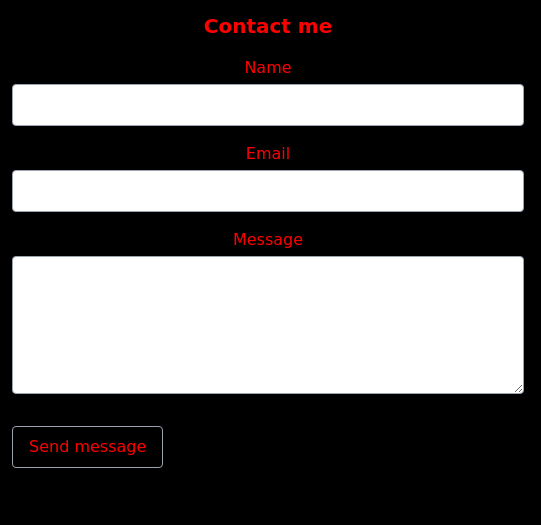
it: Contact me › validates required fields and explains when no endpoint is configured
Type "Test visitor" into the field labelled "Name".
click(268, 105); type("Test visitor")  # box x1=12 y1=84 x2=524 y2=126
Type "invalid" into the field labelled "Email".
click(268, 191); type("invalid")  # box x1=12 y1=170 x2=524 y2=212
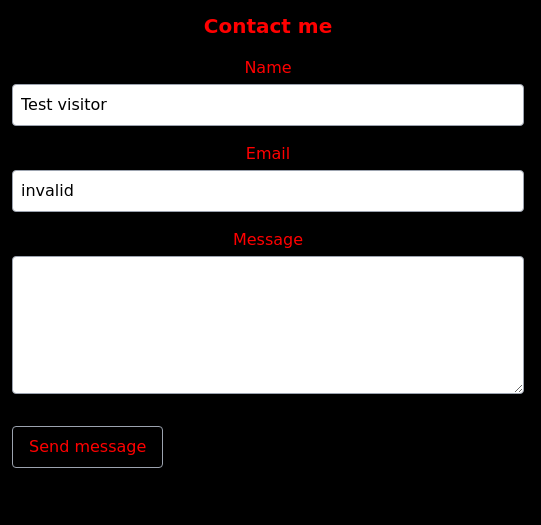
Replace the text in the field labelled "Email" with "visitor@example.com" at (268, 191), box x1=12 y1=170 x2=524 y2=212
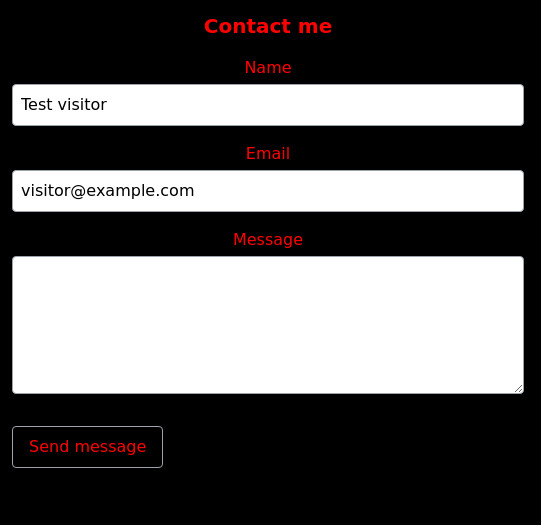
Type "Hello!" into the text box labelled "Message".
click(268, 325); type("Hello!")  # box x1=12 y1=256 x2=524 y2=394
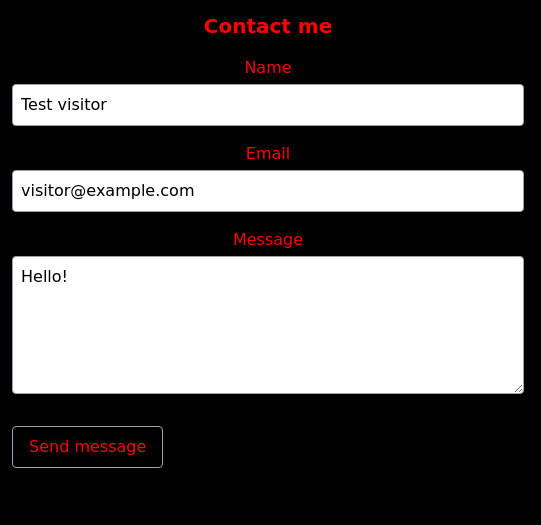
Replace the text in the field labelled "Email" with "visitor@localhost" at (268, 191), box x1=12 y1=170 x2=524 y2=212
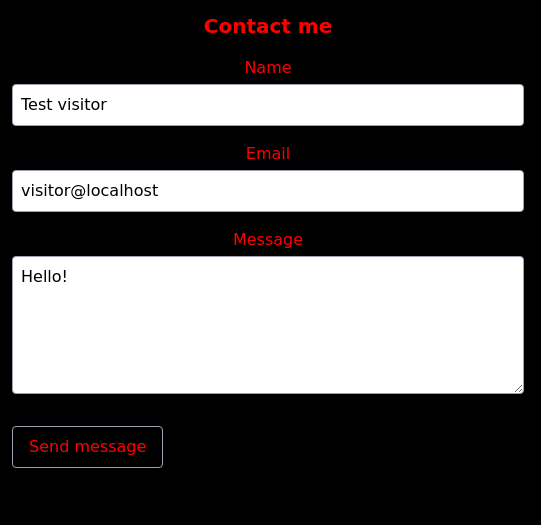
Replace the text in the field labelled "Email" with "visitor@example.com" at (268, 191), box x1=12 y1=170 x2=524 y2=212
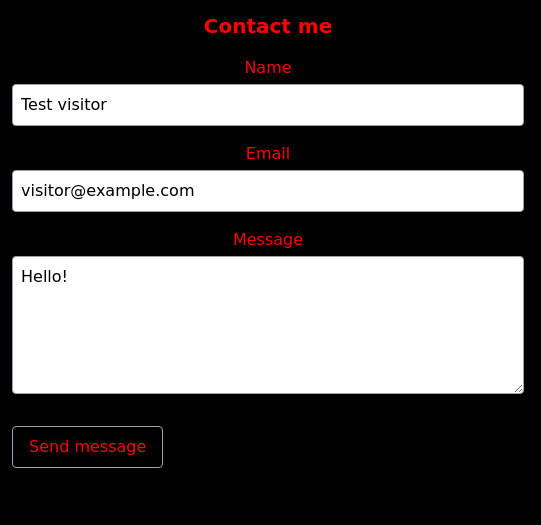
Check: the button "Send message" is enabled, box x1=12 y1=426 x2=163 y2=468
Submit the form "Contact me"
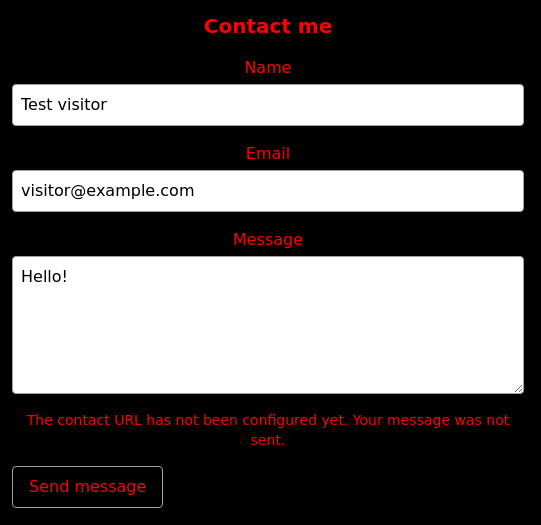
Check: the message shows "URL has not been configured", box x1=27 y1=412 x2=509 y2=448
